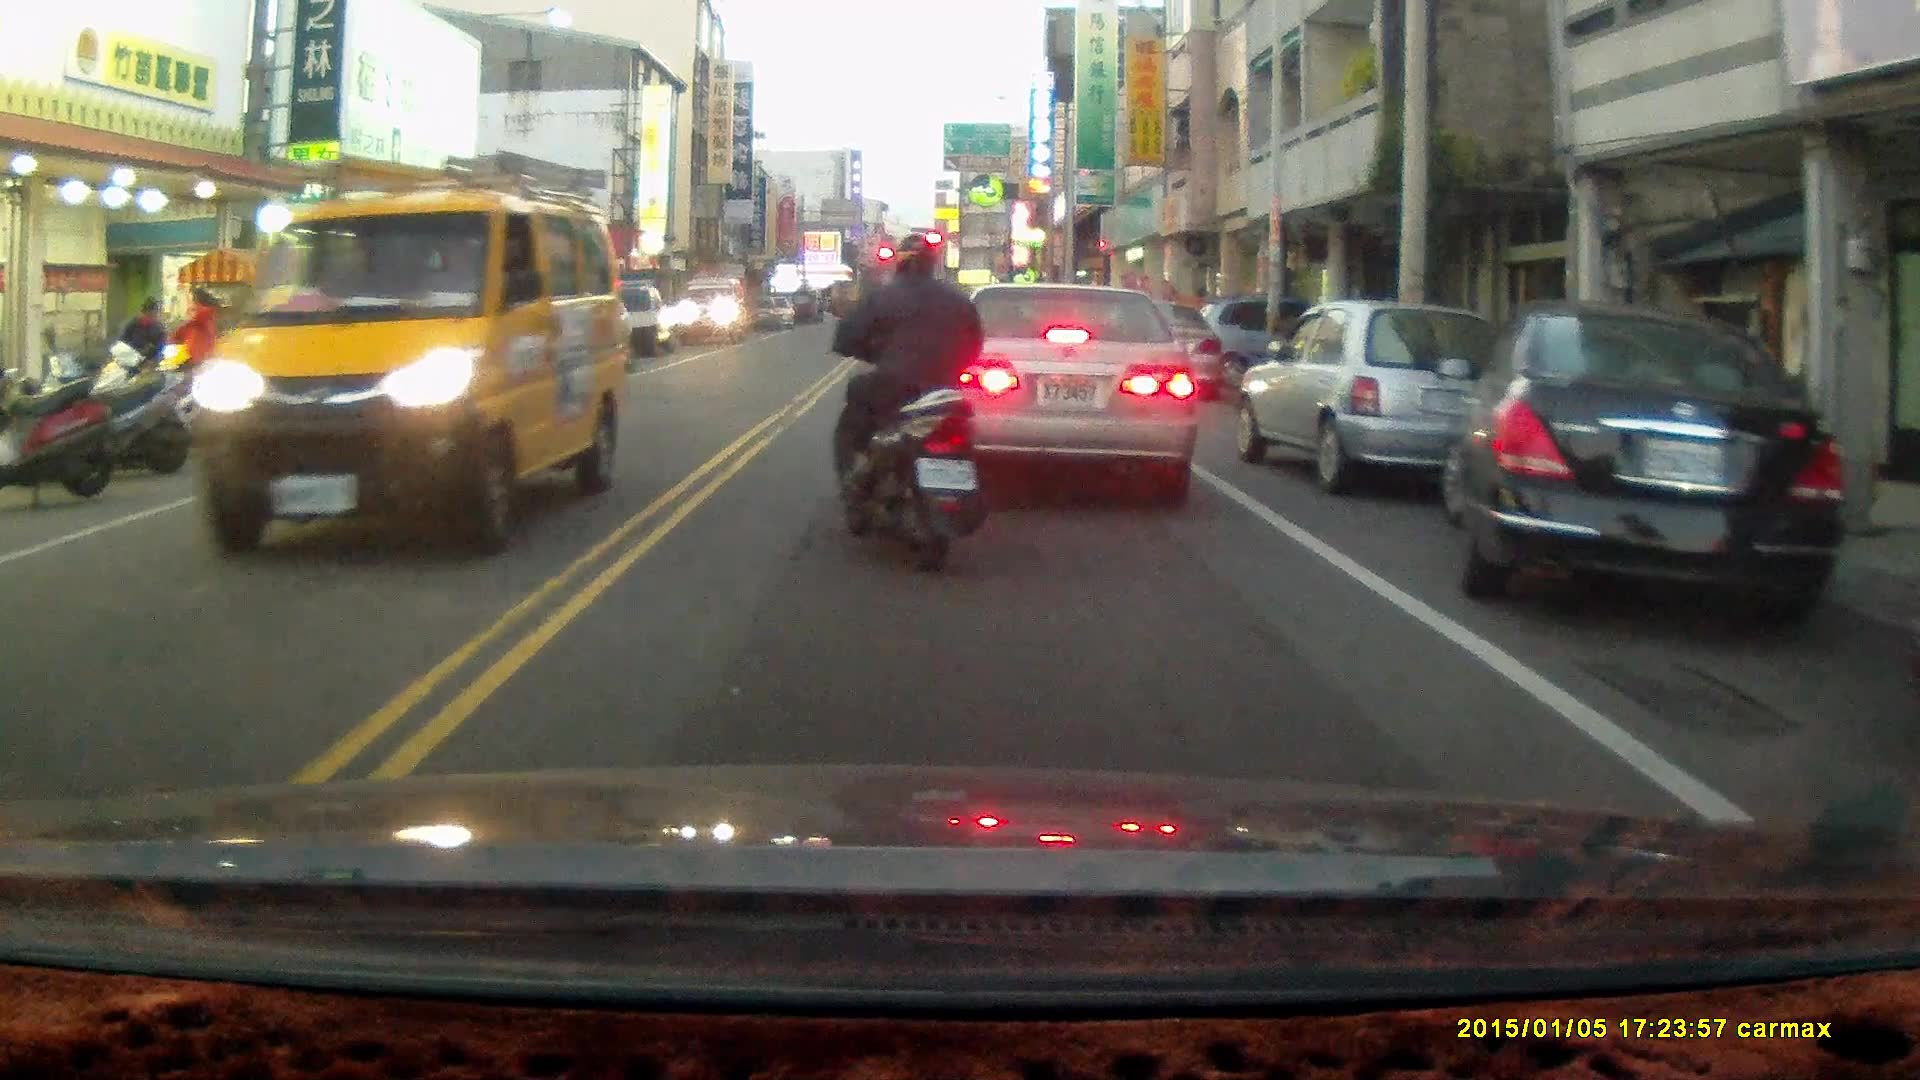pedestrian: (117, 297, 167, 407)
rider: (827, 227, 999, 575), (142, 286, 252, 448)
vehicle: (195, 148, 623, 574), (1432, 300, 1846, 639), (925, 280, 1202, 500), (1236, 298, 1496, 494), (680, 269, 755, 339)
